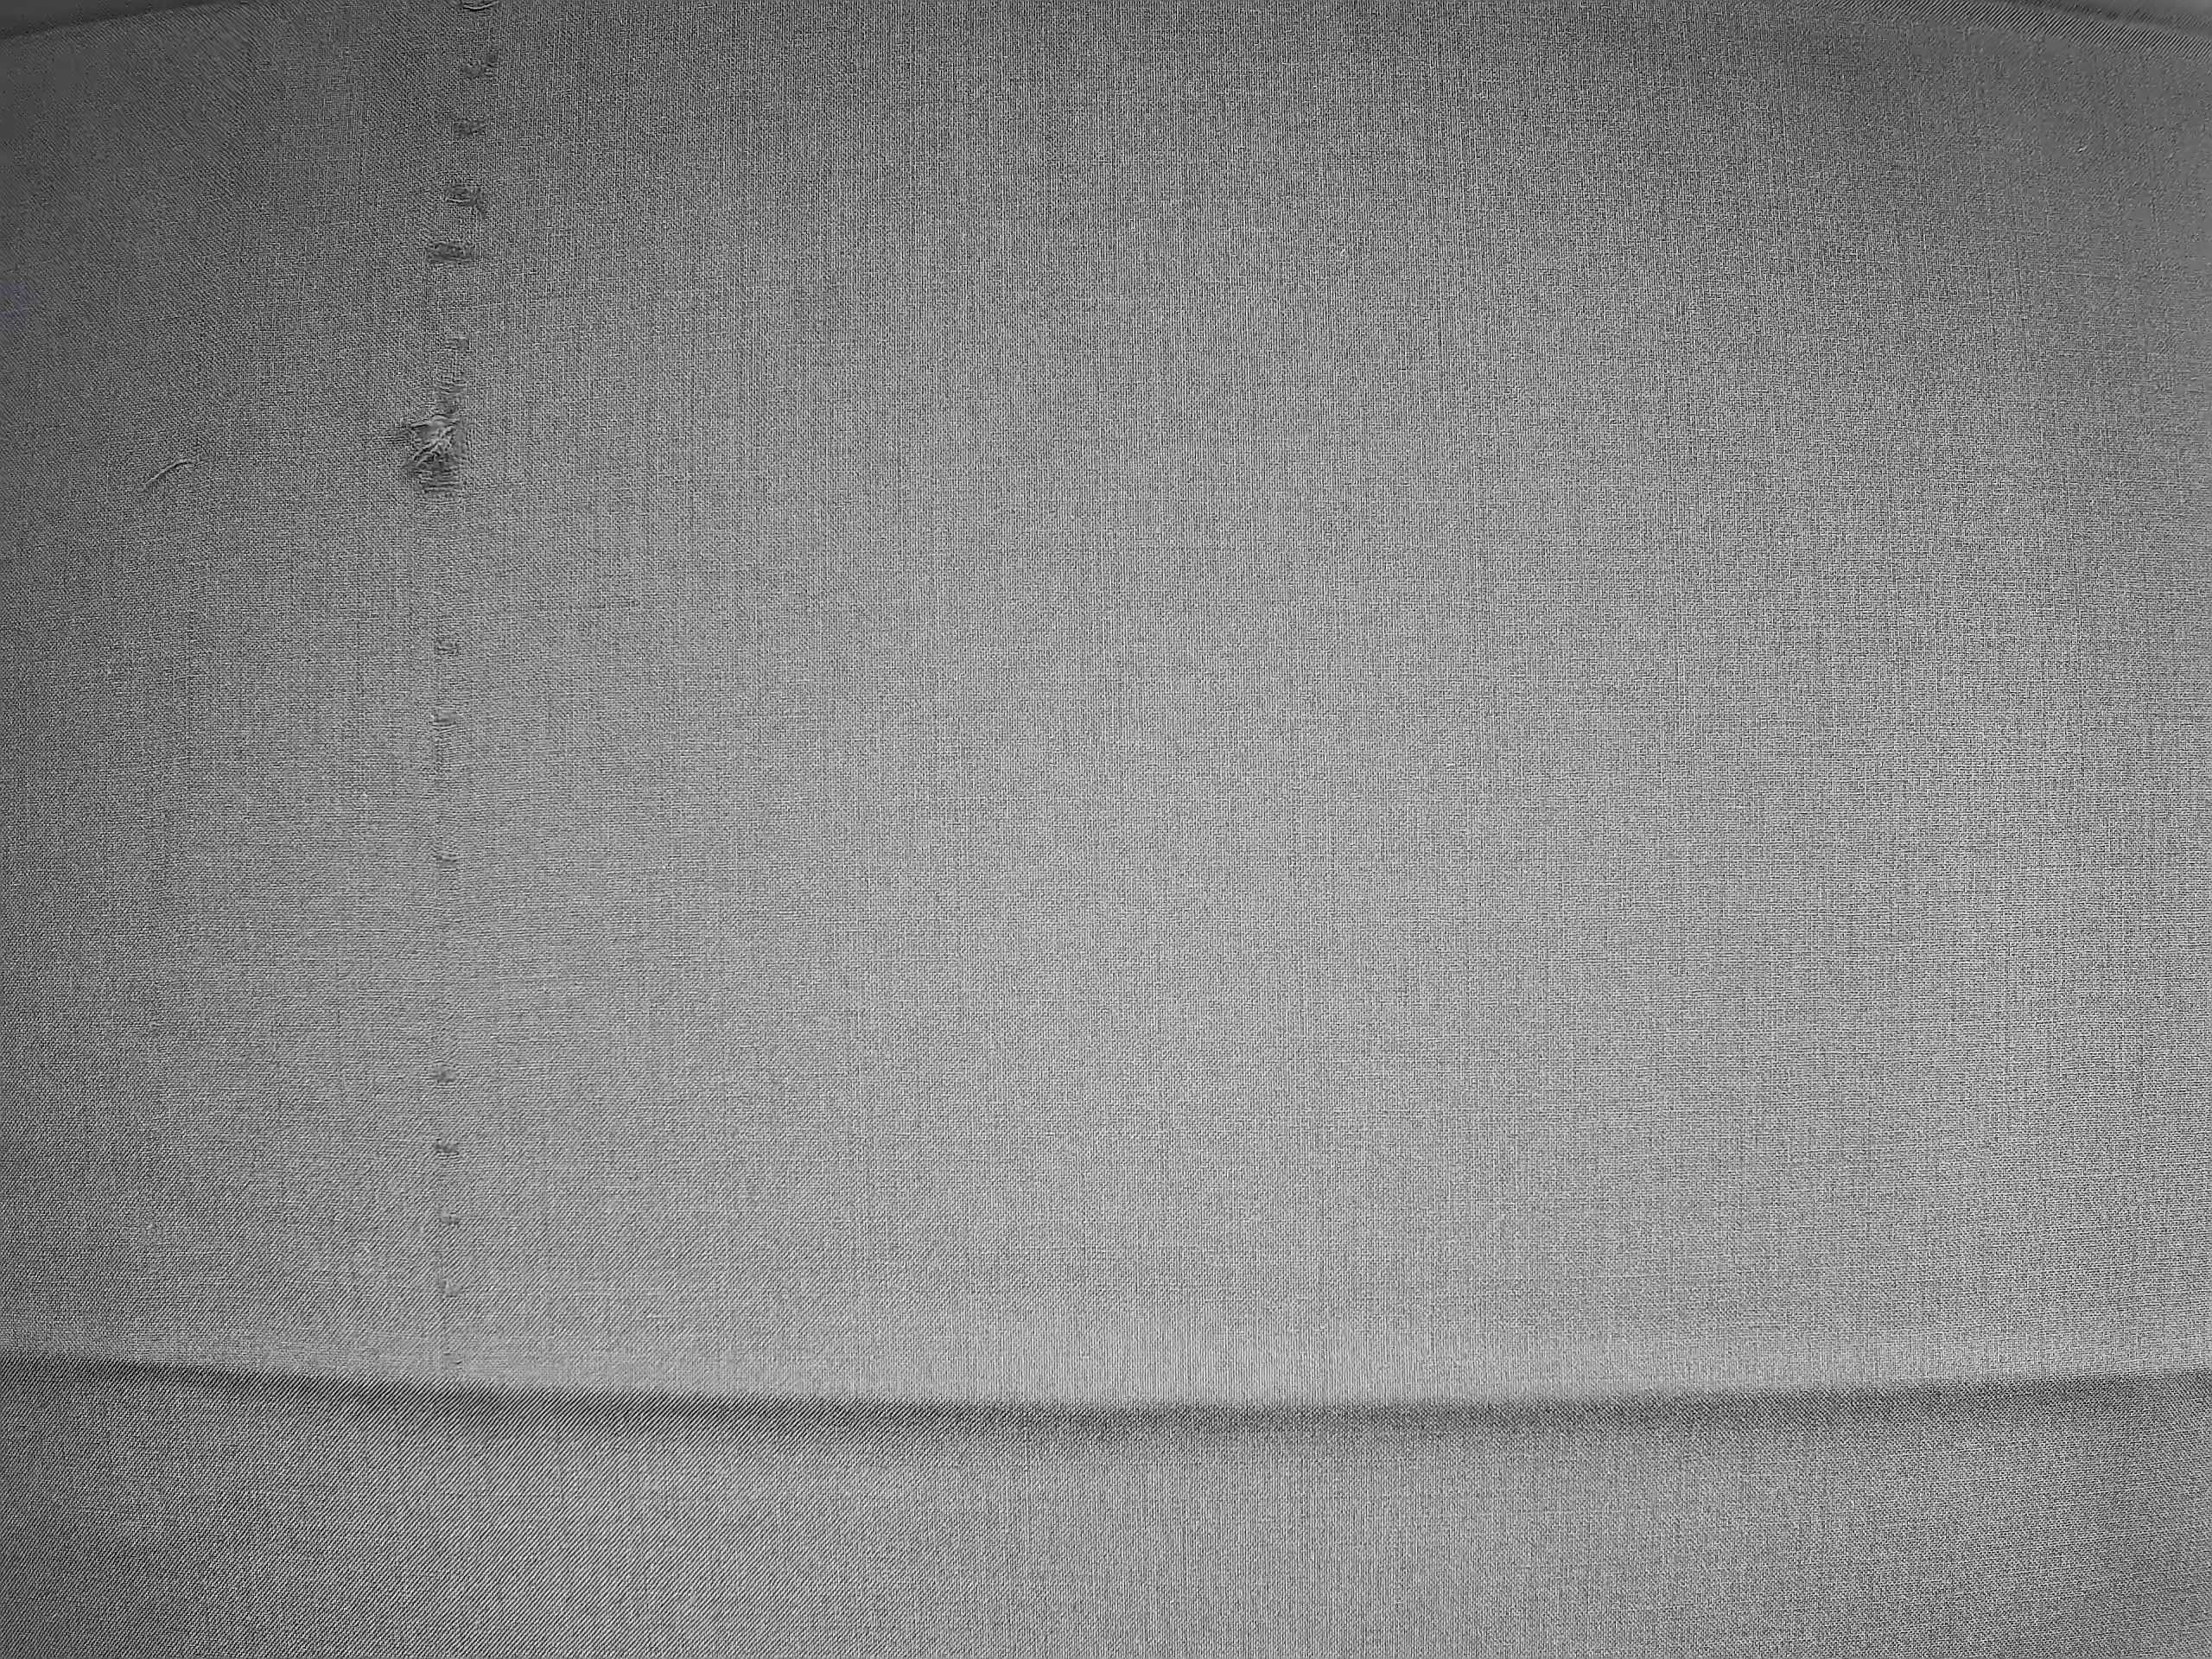rubbing-hole: (394, 9, 493, 1373)
